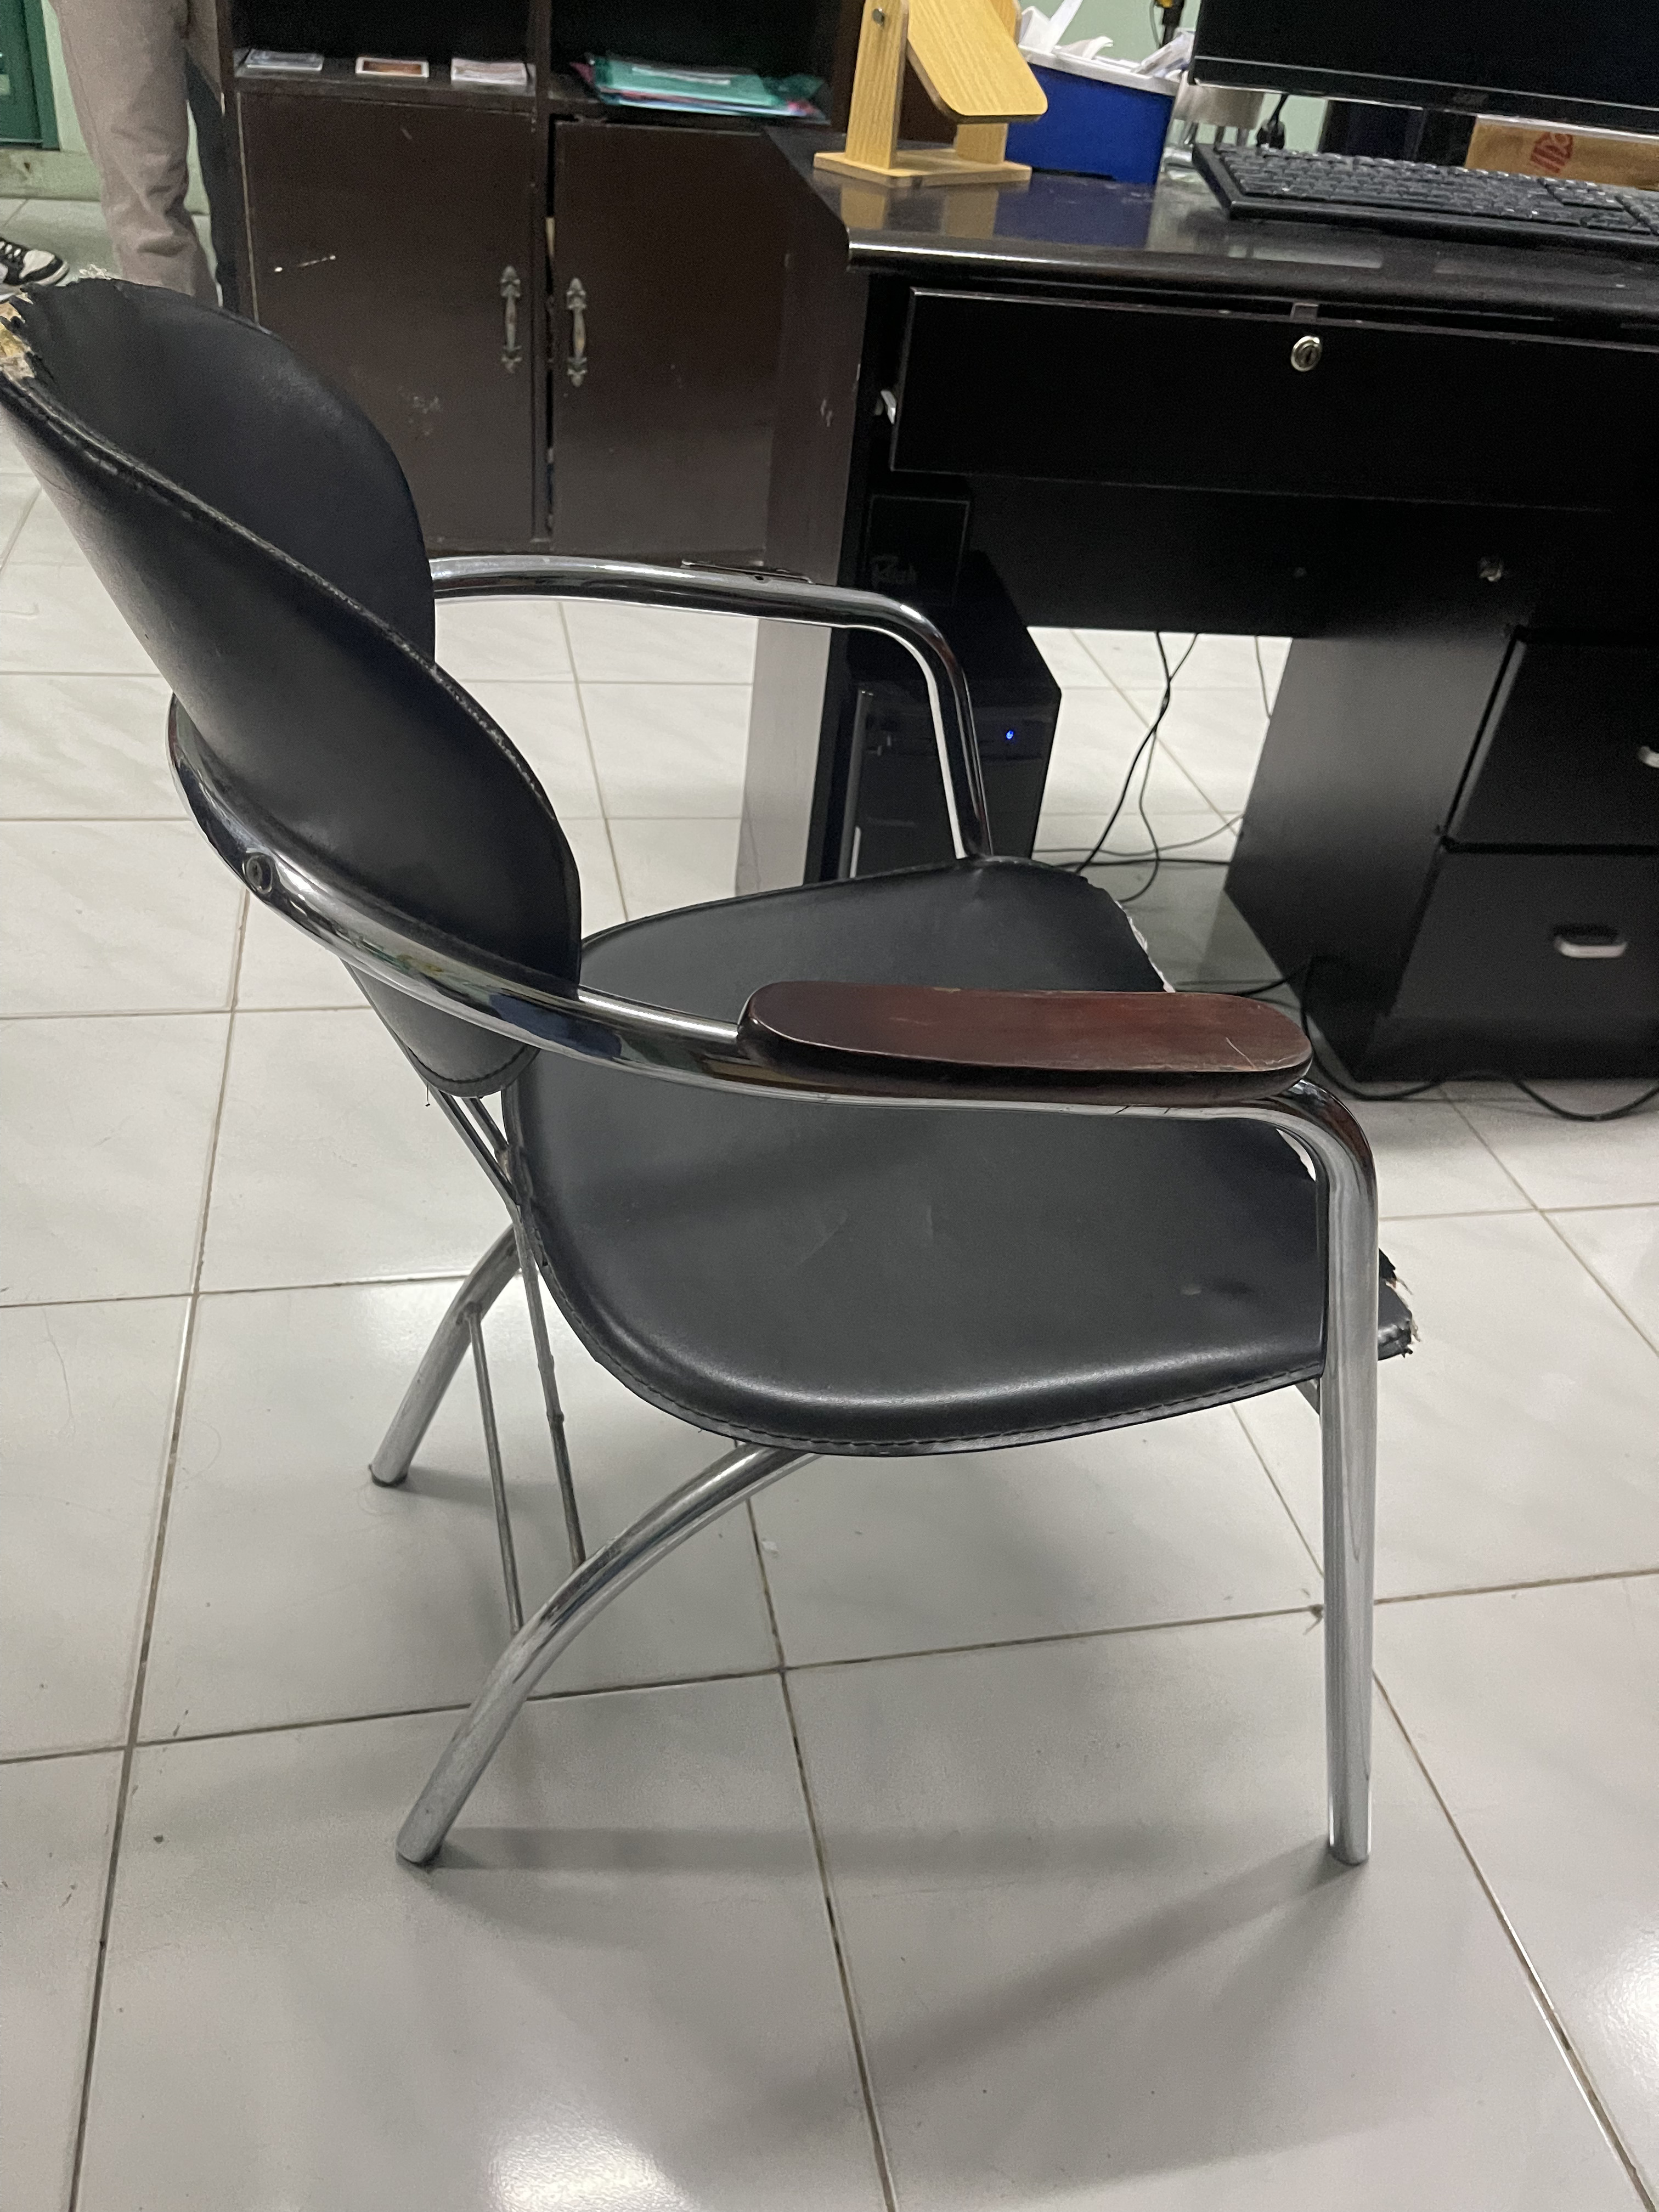chair1: (3, 275, 1408, 1883)
